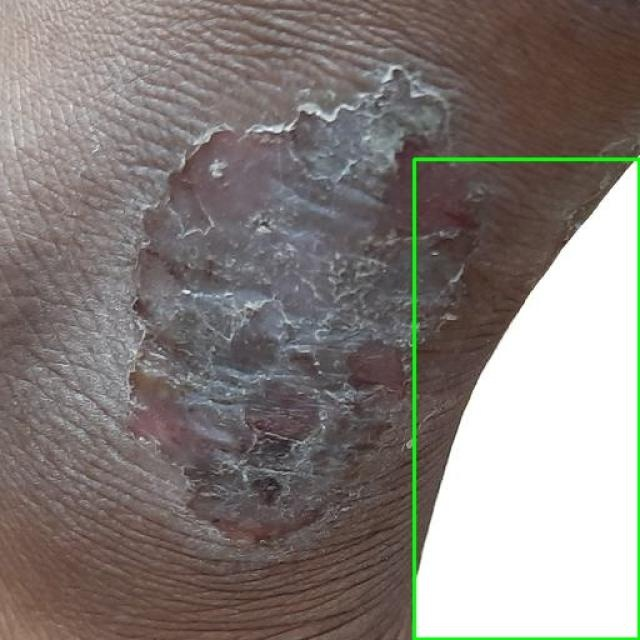Contact Dermatitis: (414, 159, 639, 639)
